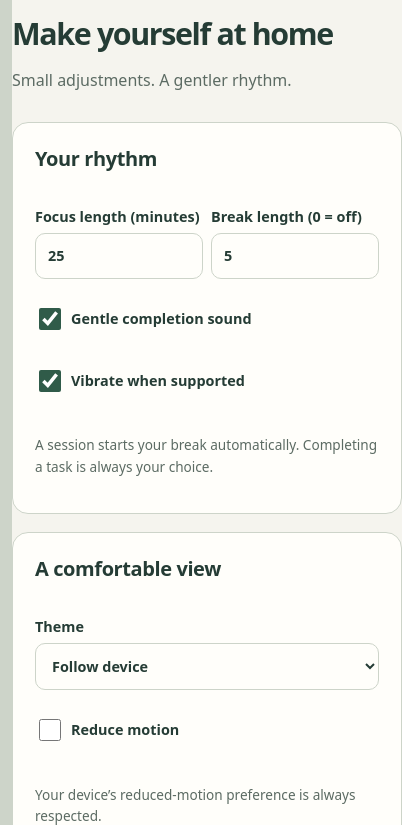
updates preferences and adds a category
Select "Dark" in the dropdown labelled "Theme" at (207, 666), box x1=35 y1=643 x2=379 y2=690
(page scrolled)
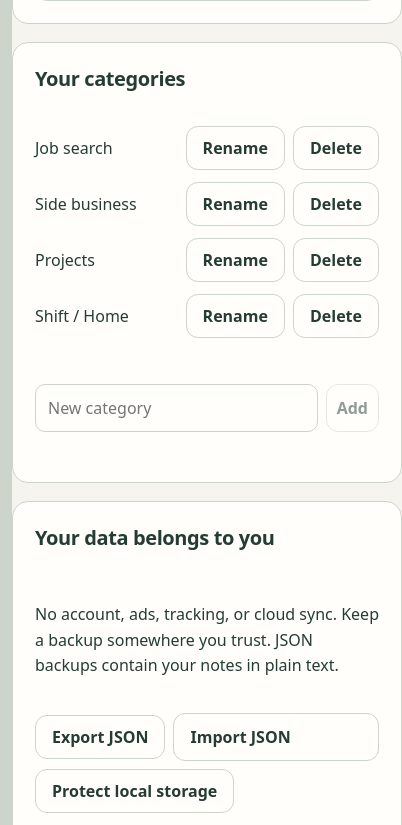
Type "Personal" into the field named "New category name" at (176, 408), box x1=35 y1=384 x2=318 y2=432
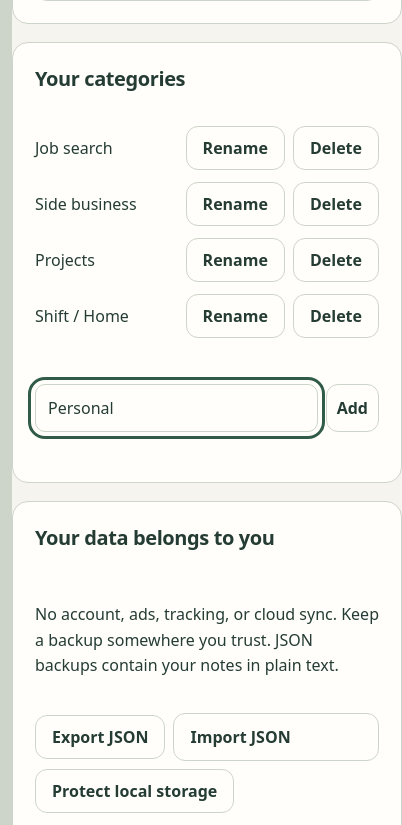
Click the button "Add" at (352, 408), box x1=326 y1=384 x2=379 y2=432
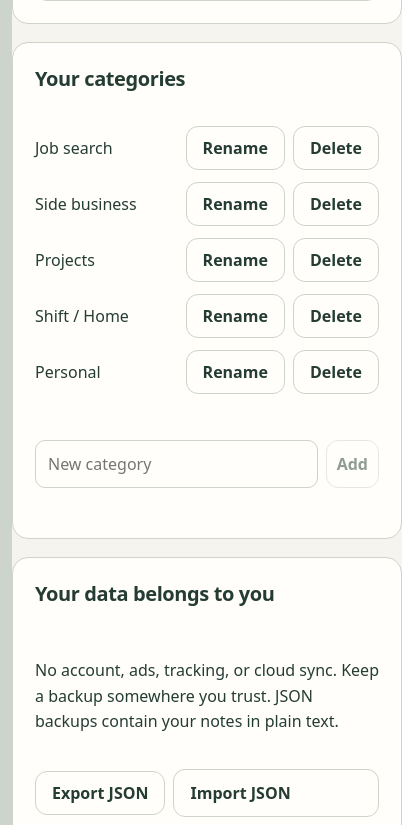
Check: the text "Personal" is shown, box x1=35 y1=362 x2=101 y2=384
